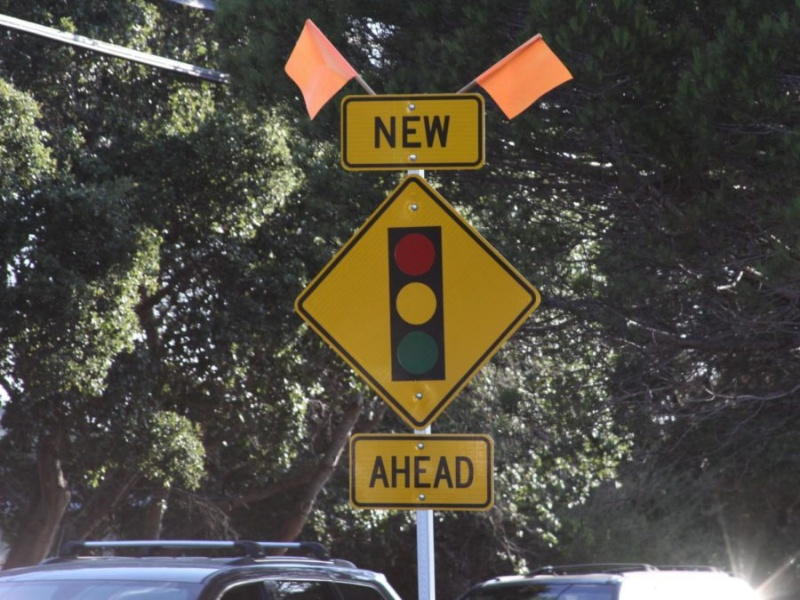traffic signal sign: (290, 173, 545, 430)
